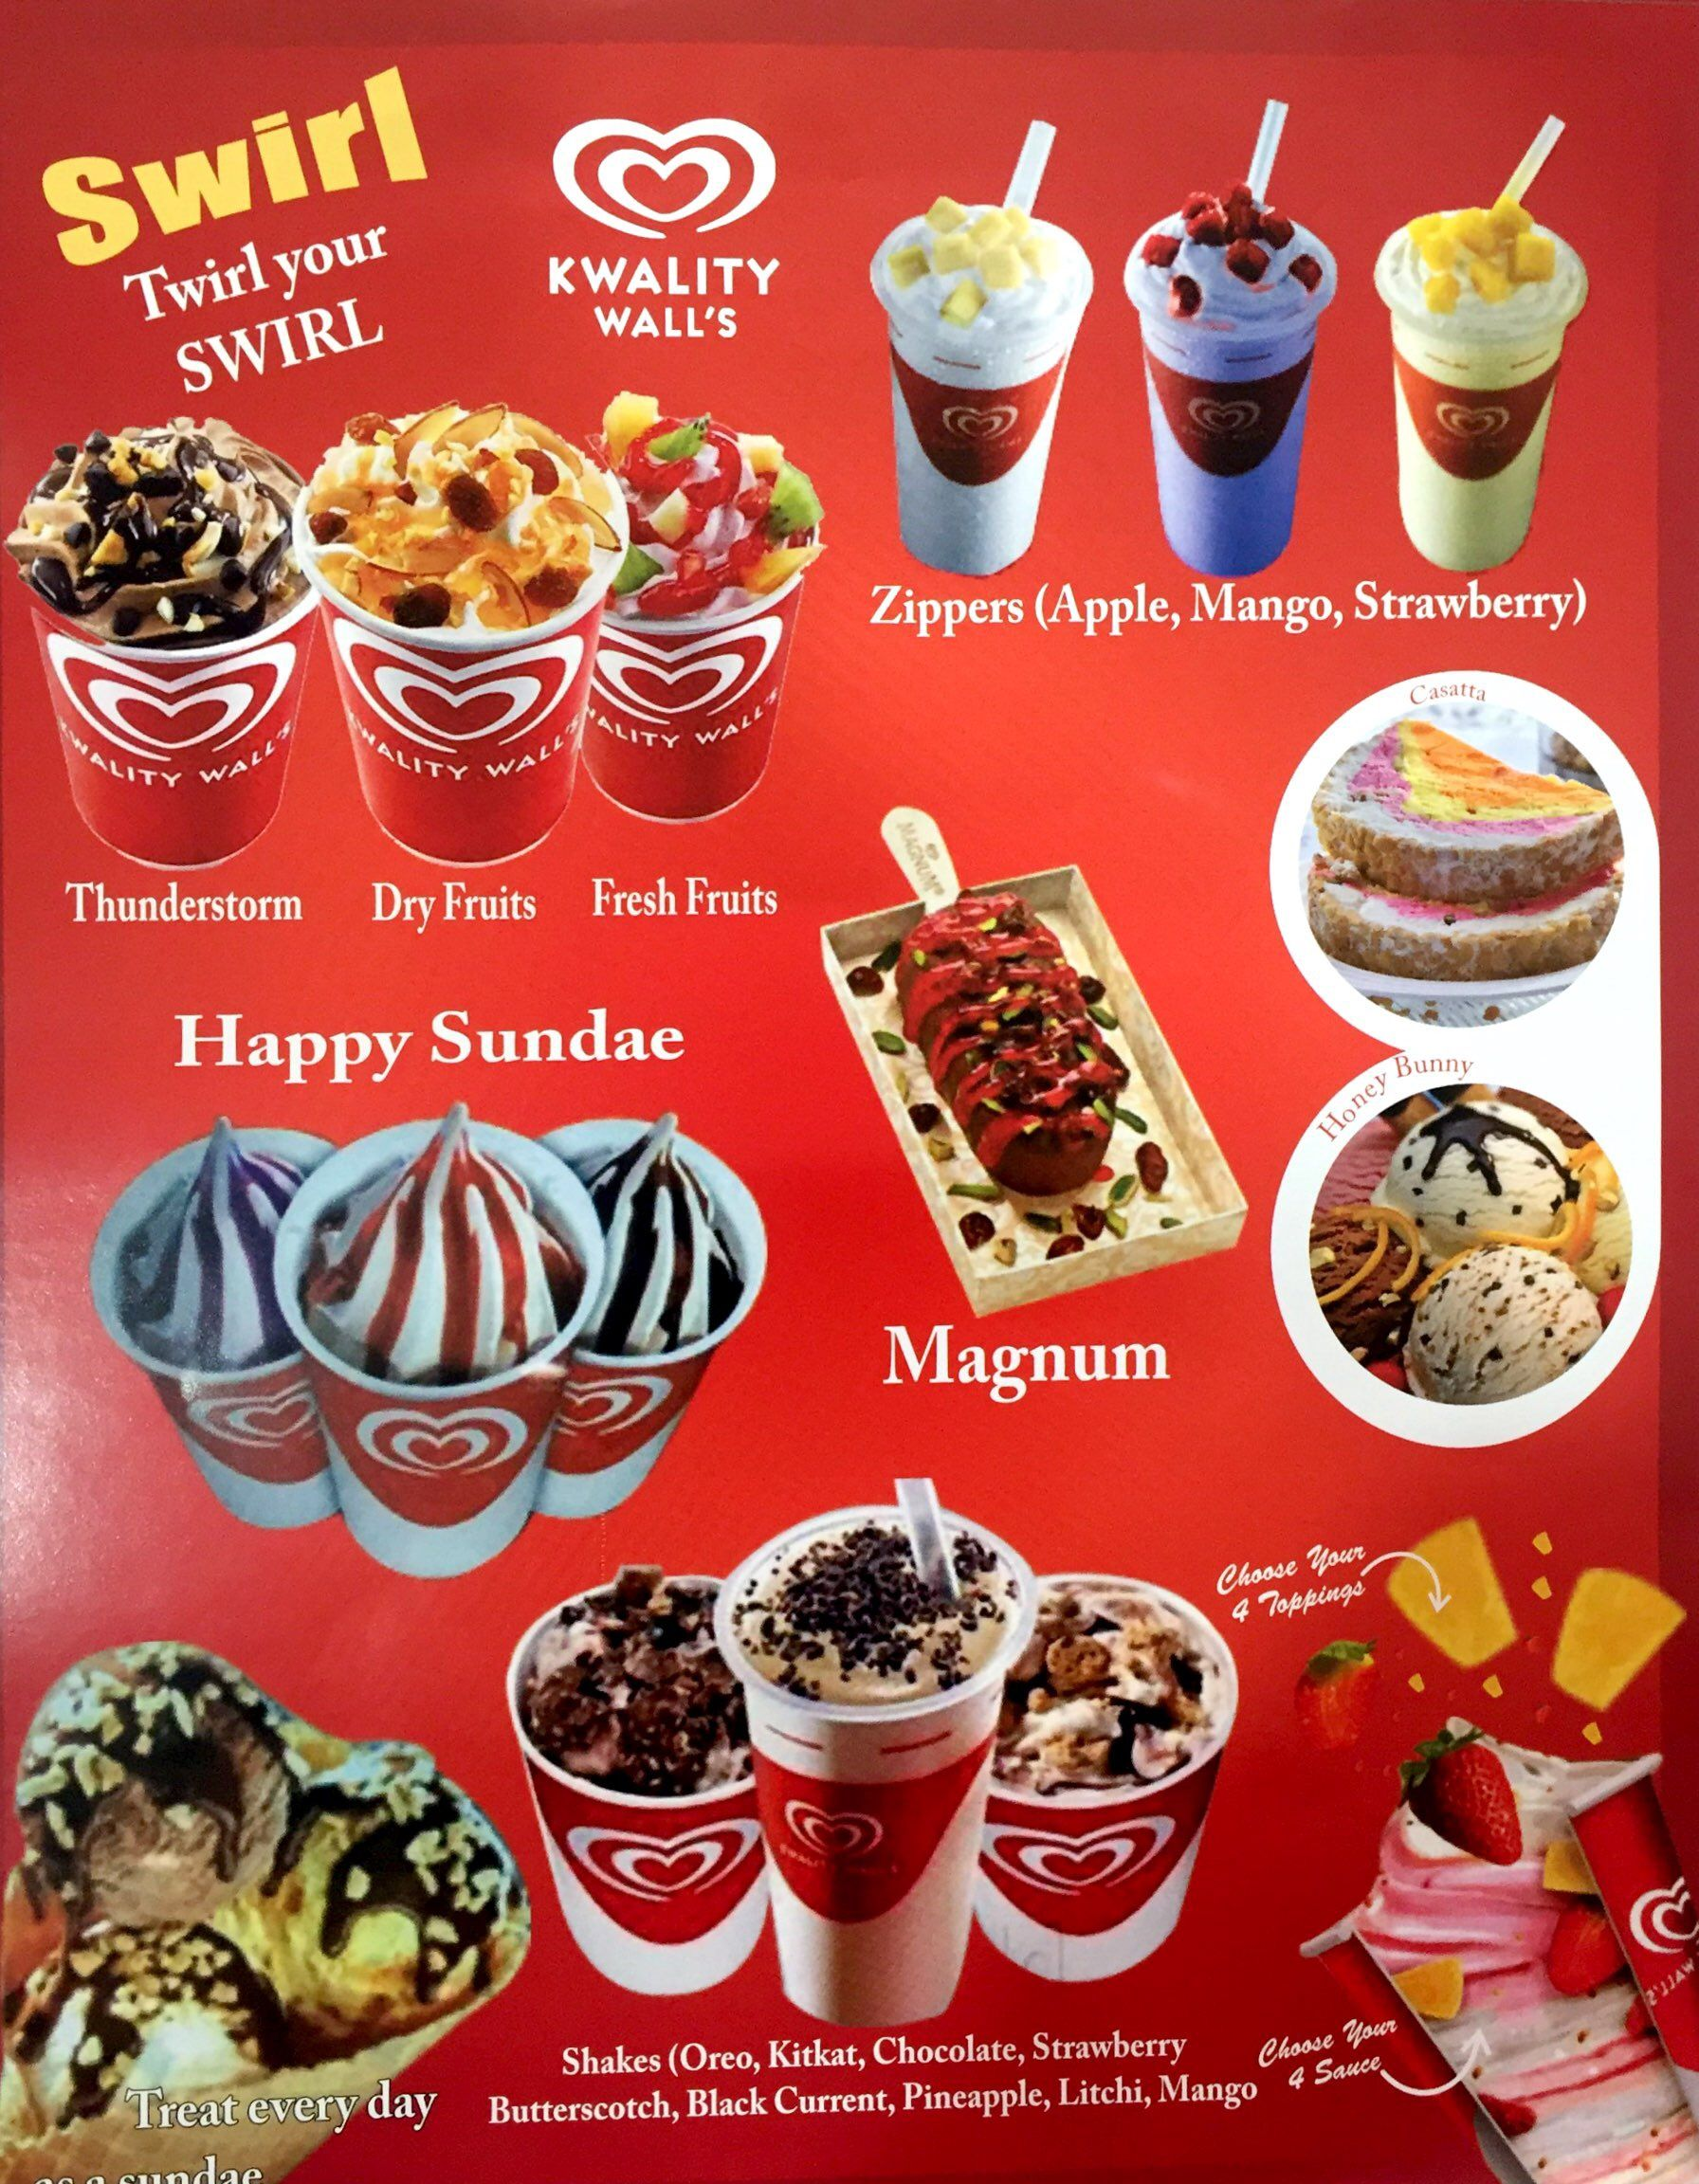Kwality_Walls: (174, 1367, 690, 1540), (20, 604, 305, 787), (328, 604, 589, 796), (566, 599, 796, 759), (536, 117, 779, 252), (961, 1803, 1197, 1934), (559, 1803, 757, 1930), (763, 1792, 899, 1899), (1610, 1852, 1699, 1975), (910, 390, 1032, 464), (1171, 394, 1277, 472), (1429, 394, 1511, 456)
